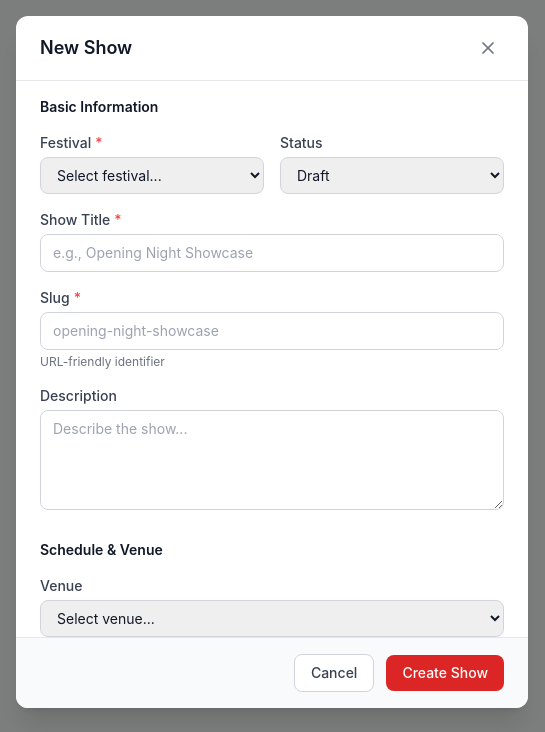
Test: ShowForm › form validation › requires festival selection
Type "Test Show" into the field with placeholder "e.g., Opening Night Showcase". click: (272, 253)
box: 40,234 -> 504,272
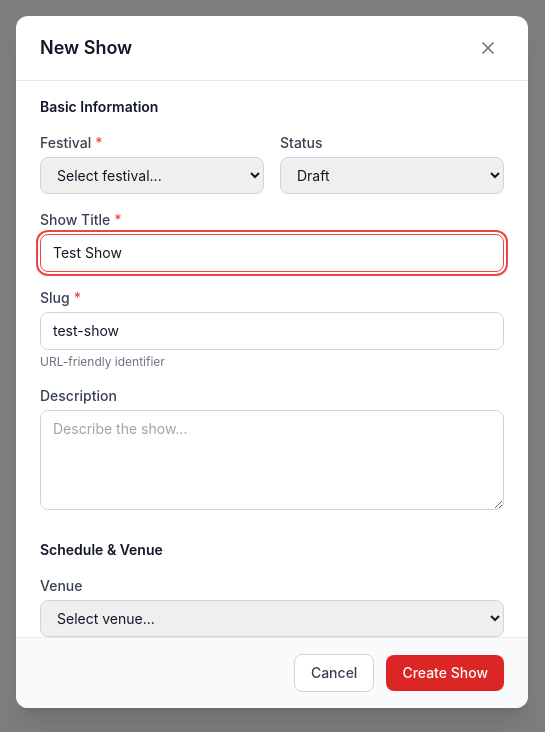
Click the button "Create Show". click: (445, 673)
box: 386,655 -> 504,691
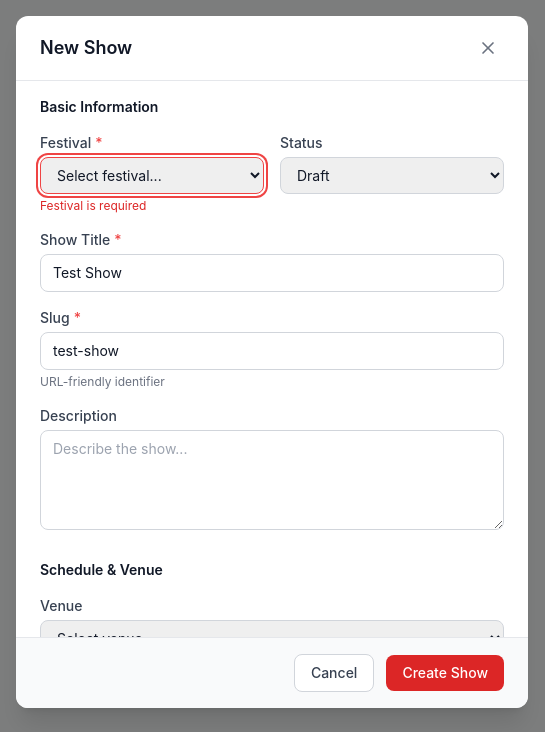
Now the text "Festival is required" is shown, box 40,198 -> 146,213
